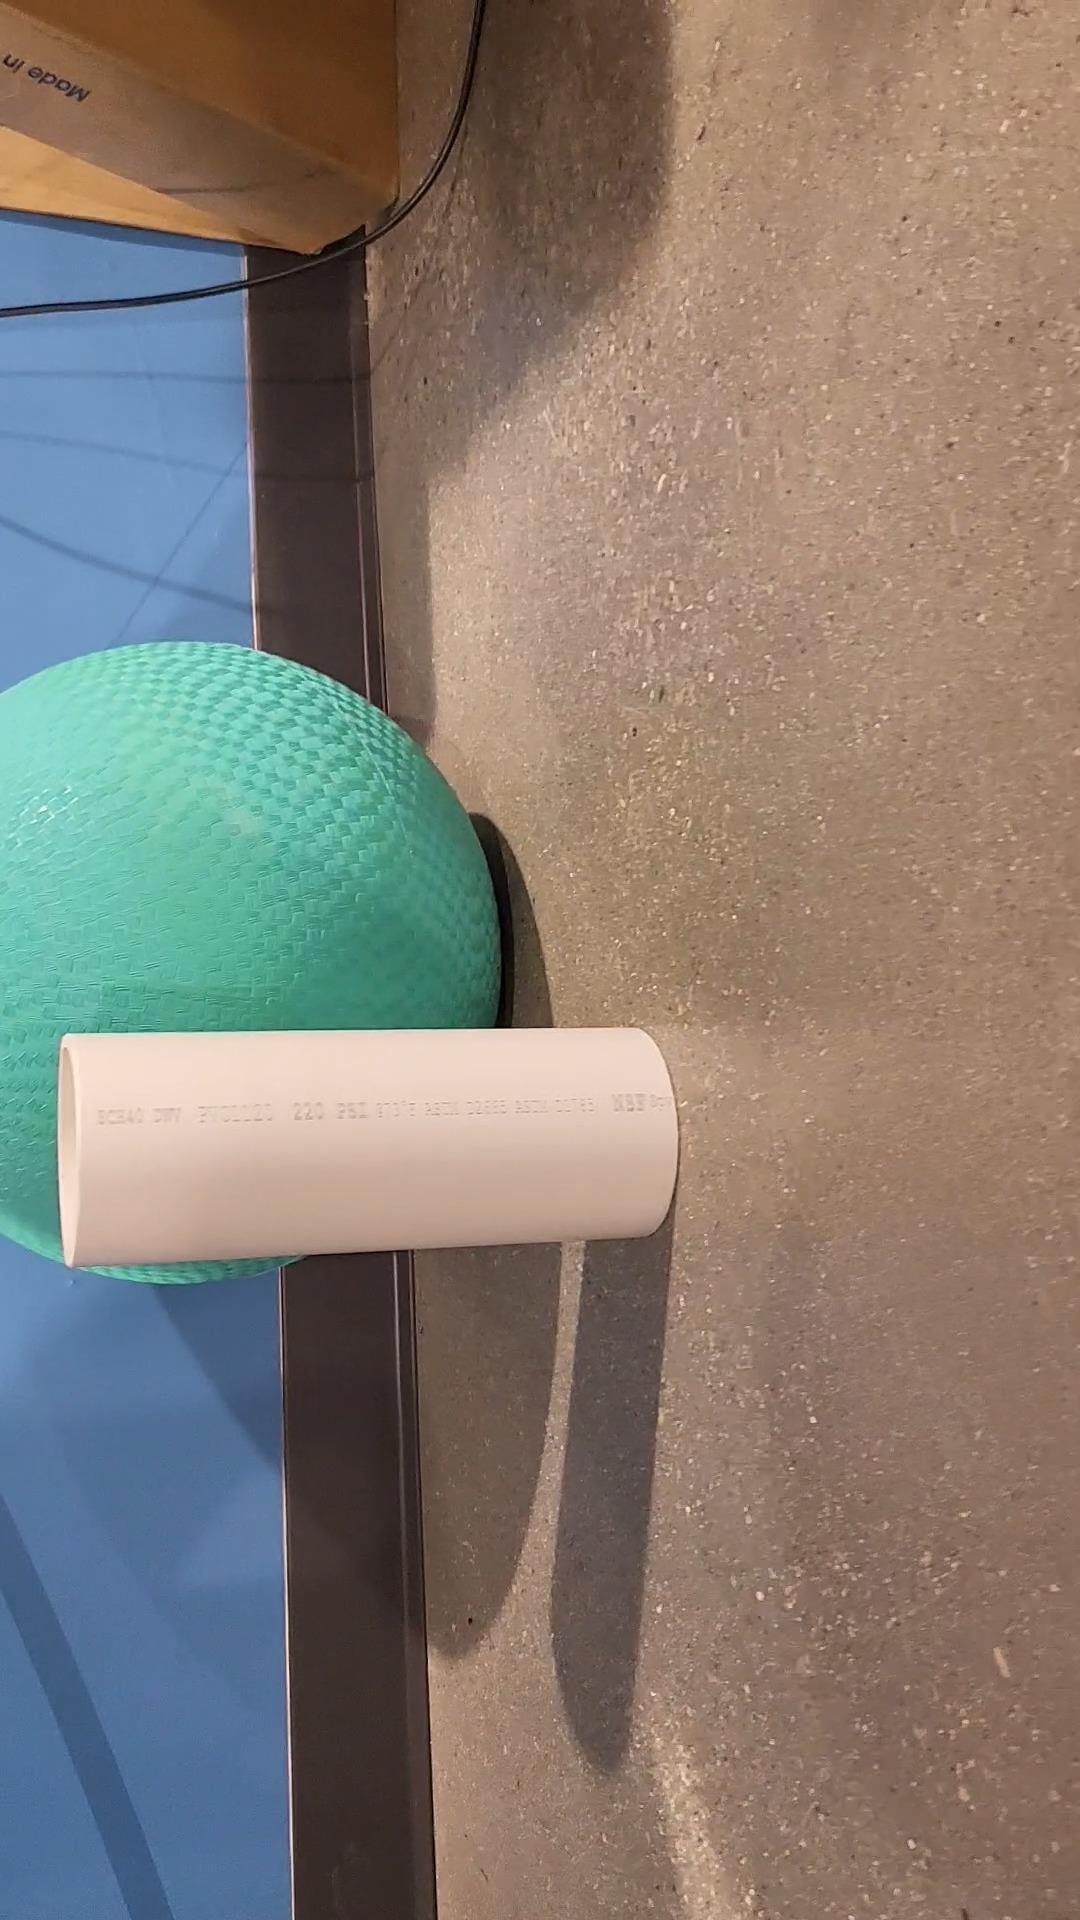algae: (0, 641, 500, 1286)
coral: (61, 1027, 679, 1269)
